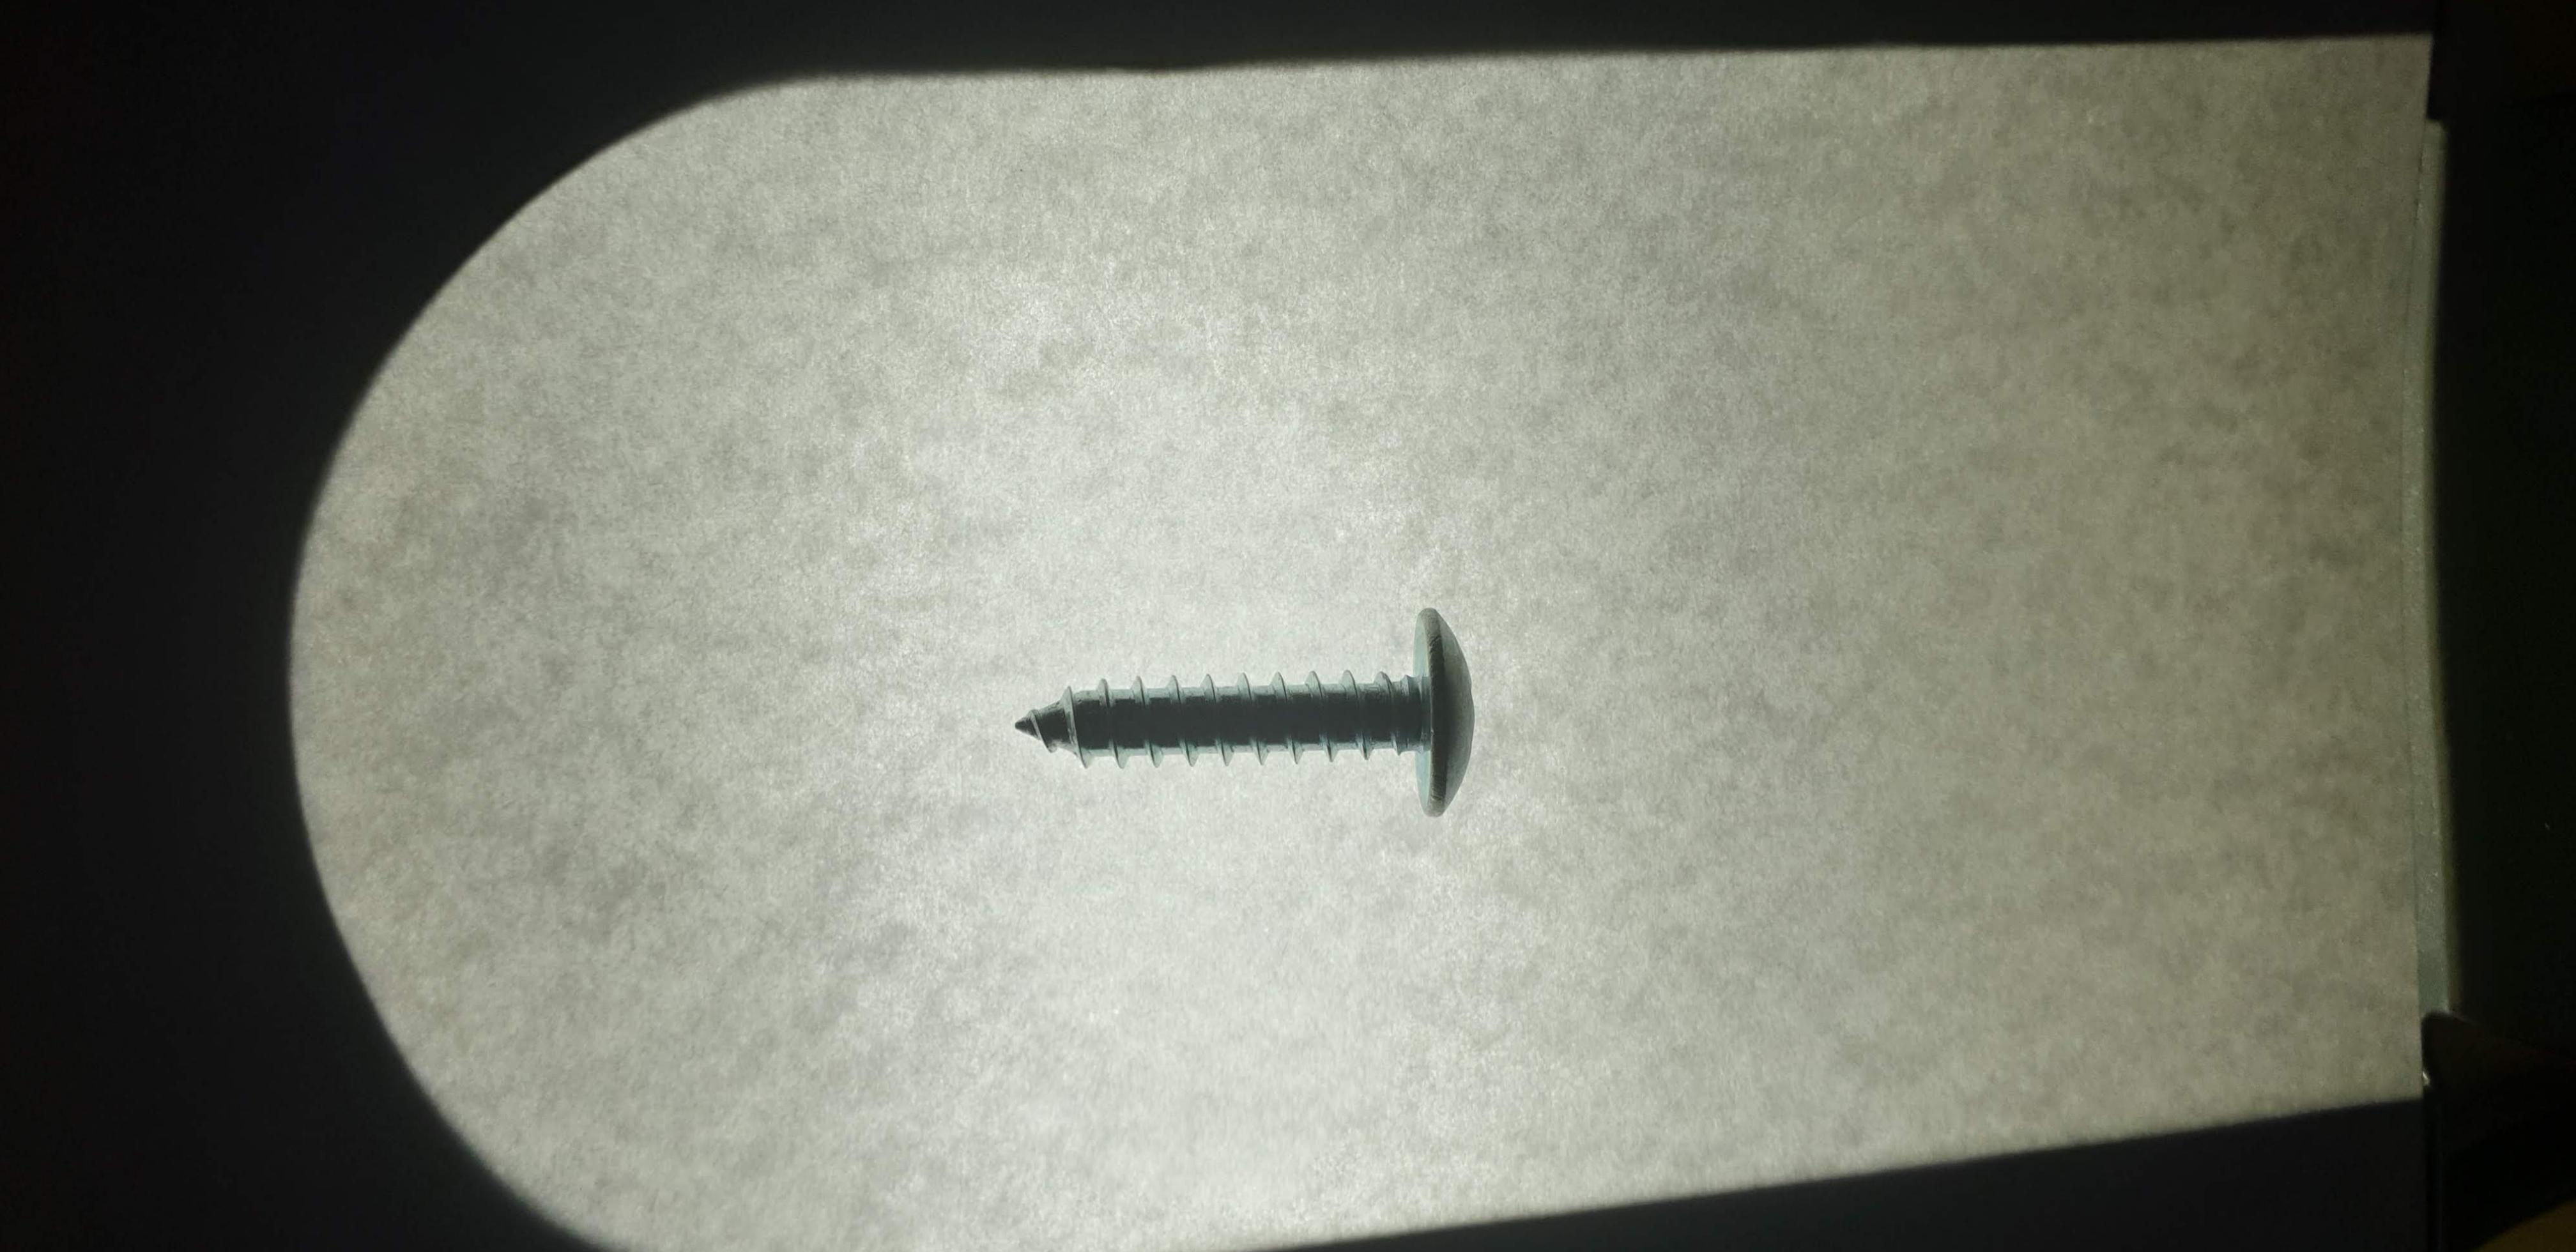S002: (979, 577, 1556, 853)
